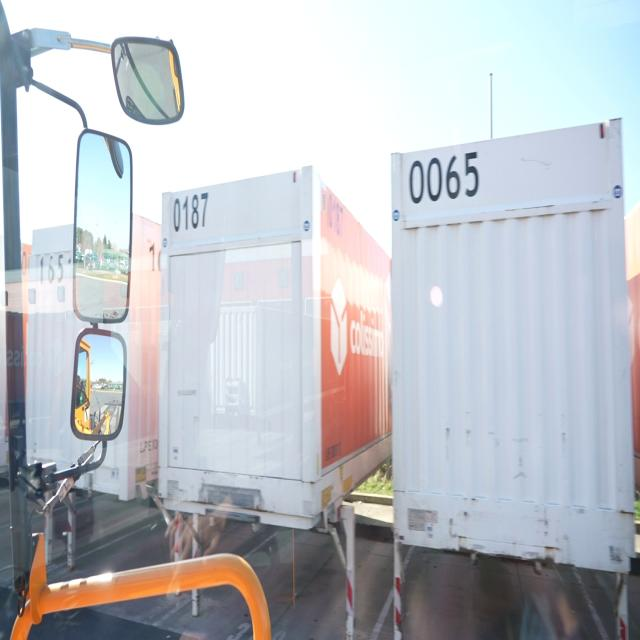Code: (405, 149, 483, 203), (168, 187, 215, 237)
